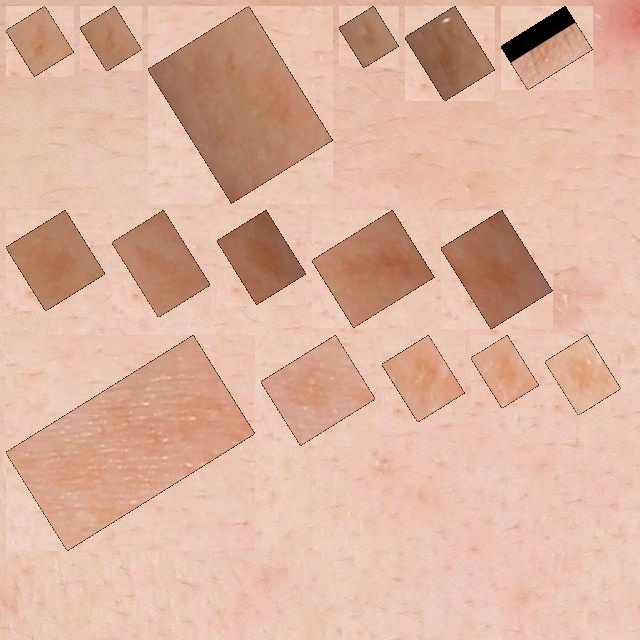melasma: (17, 346, 244, 539), (159, 17, 322, 192), (323, 221, 423, 316), (452, 221, 541, 318), (272, 346, 364, 434), (123, 221, 199, 306), (17, 221, 94, 300), (416, 17, 484, 90), (228, 221, 295, 293), (512, 17, 581, 79), (393, 346, 454, 411), (556, 346, 610, 404), (482, 346, 528, 397), (17, 17, 63, 65), (91, 17, 131, 60), (350, 17, 388, 57)
